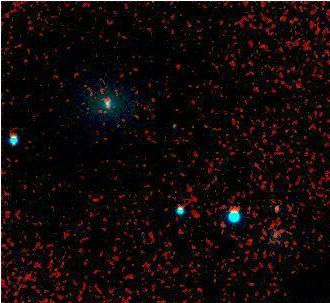star: (86, 86, 116, 116)
